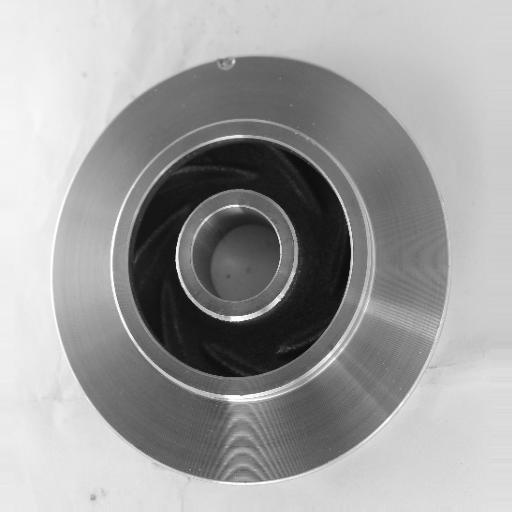crack: (208, 46, 245, 73)
unpolished_casting: (52, 51, 448, 484)
